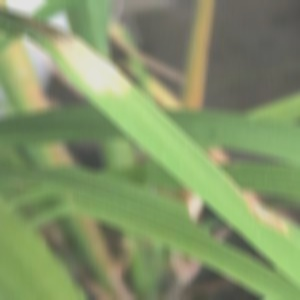Brown_Spot: (240, 188, 286, 243)
